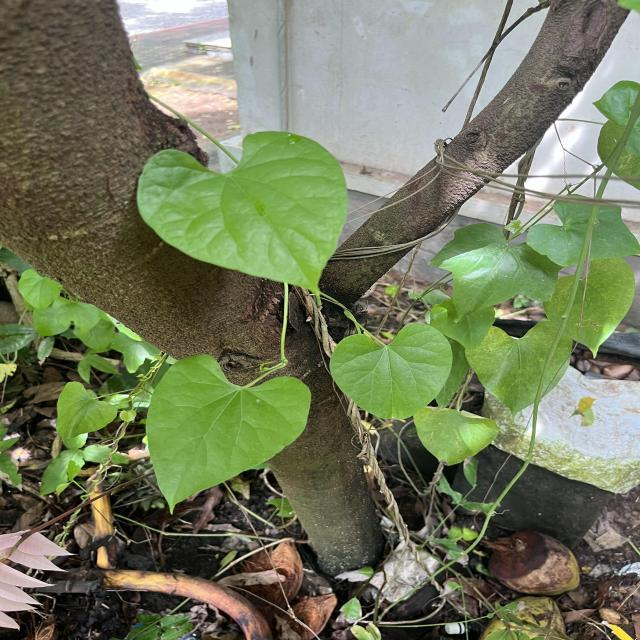Tinospora cordifolia: (132, 126, 353, 300), (143, 350, 314, 518), (328, 320, 456, 420)
